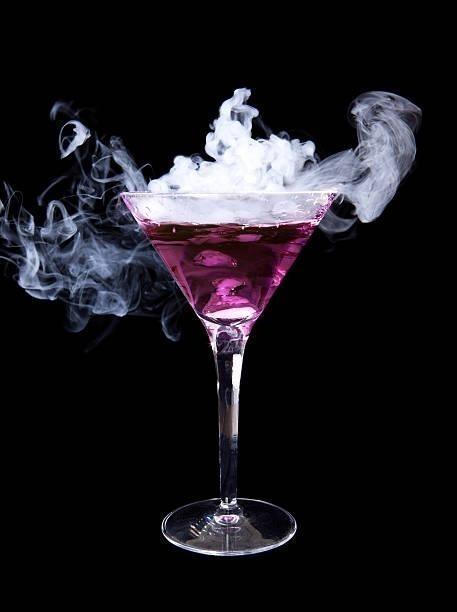glass-wine: (120, 175, 345, 558)
